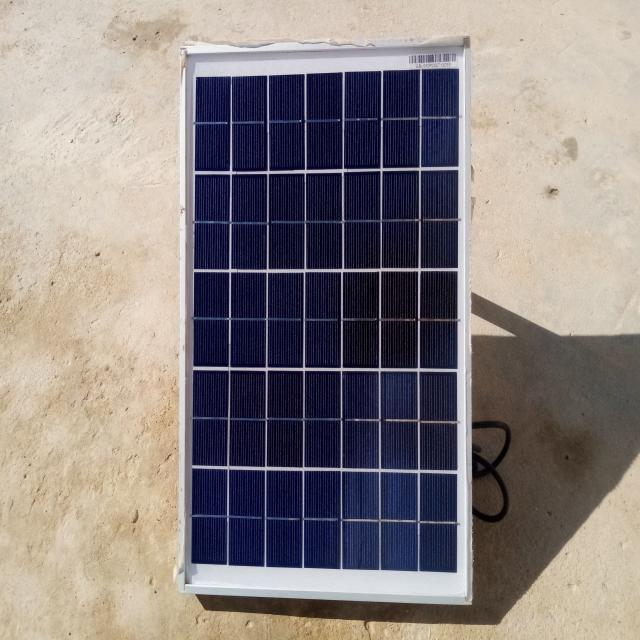Normal Solar Panel: (177, 41, 474, 601)
